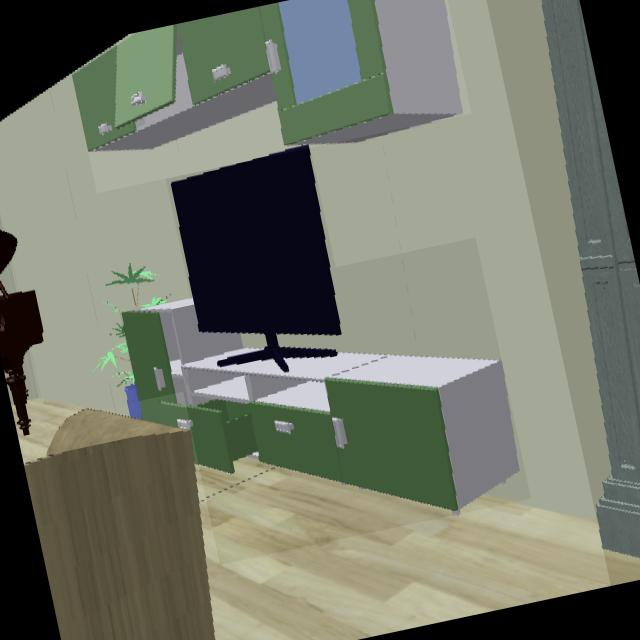cabinet: (121, 299, 520, 514), (72, 0, 462, 153), (540, 0, 640, 559)
monitor: (172, 144, 341, 353)
sofa: (24, 413, 216, 640)
